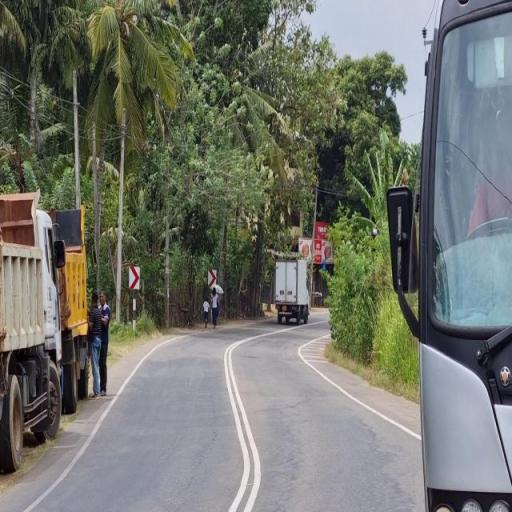double_white_line: (222, 335, 262, 511)
